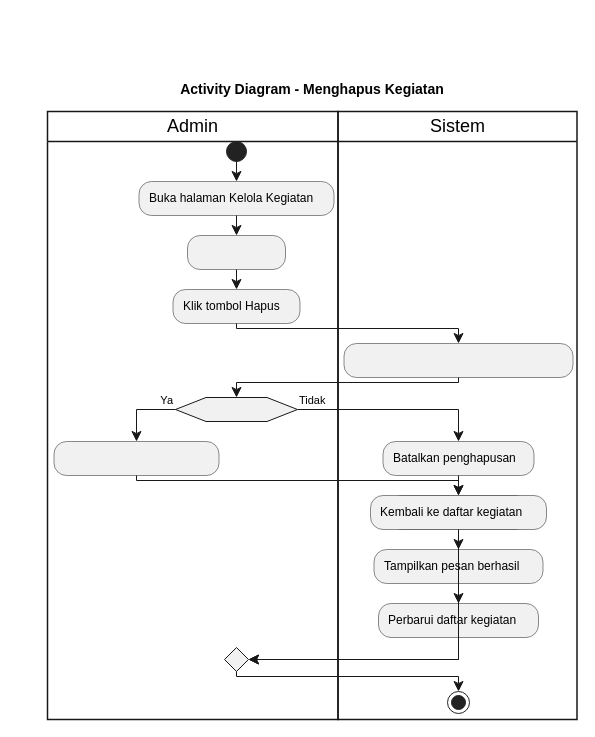
This 595x737 diagram has some shape labels left out. The shapes that lost their labels are listed below. From the top down, each one's centre as x and y in pixels, then its label:
(x=236, y=252): Pilih kegiatan
(x=458, y=360): Tampilkan konfirmasi penghapusan
(x=236, y=409): Konfirmasi hapus?
(x=136, y=458): Konfirmasi penghapusan
